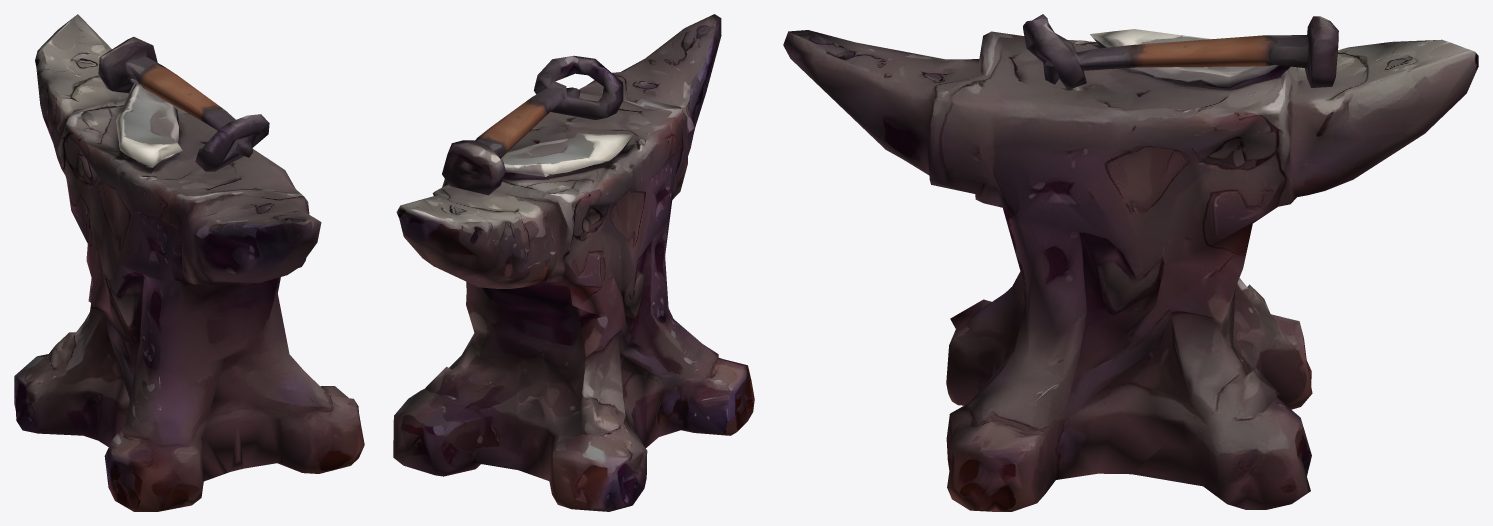
The model's file is deep-anvil.glb.
The picture shows the model from 3 angles, left to right: view 1: azimuth 30°, elevation 25°; view 2: azimuth 150°, elevation 25°; view 3: azimuth 270°, elevation 25°; orthographic projection. The views are drawn at different scales.
Parts seen in each view (by area): view 1: tripo_node_b49fe8e0-b2a0-4c4b-9e0b-50dffd633933; view 2: tripo_node_b49fe8e0-b2a0-4c4b-9e0b-50dffd633933; view 3: tripo_node_b49fe8e0-b2a0-4c4b-9e0b-50dffd633933.
Boxes of the visible parts, box(x1,y1,x2,y2) form: tripo_node_b49fe8e0-b2a0-4c4b-9e0b-50dffd633933: box(14, 14, 364, 511); tripo_node_b49fe8e0-b2a0-4c4b-9e0b-50dffd633933: box(393, 14, 754, 511); tripo_node_b49fe8e0-b2a0-4c4b-9e0b-50dffd633933: box(783, 14, 1478, 511).
Size of the model in its own units: 0.5014 by 0.6927 by 0.9993.
1 material, 1 textured.
